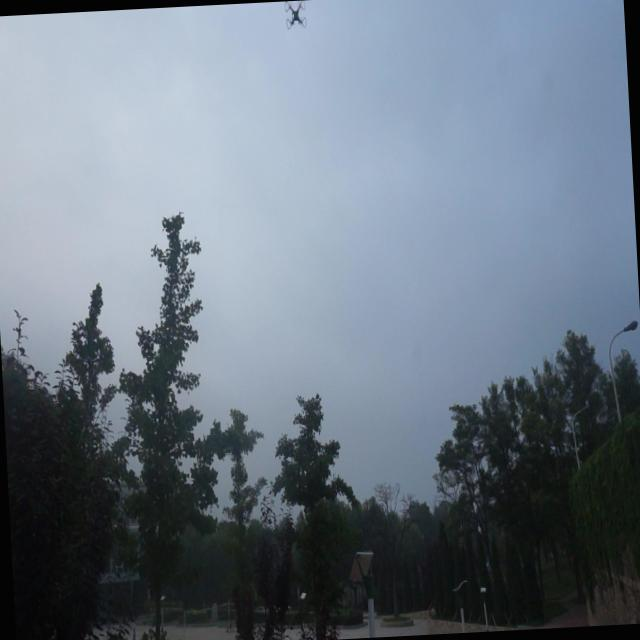drone: (282, 0, 314, 33)
